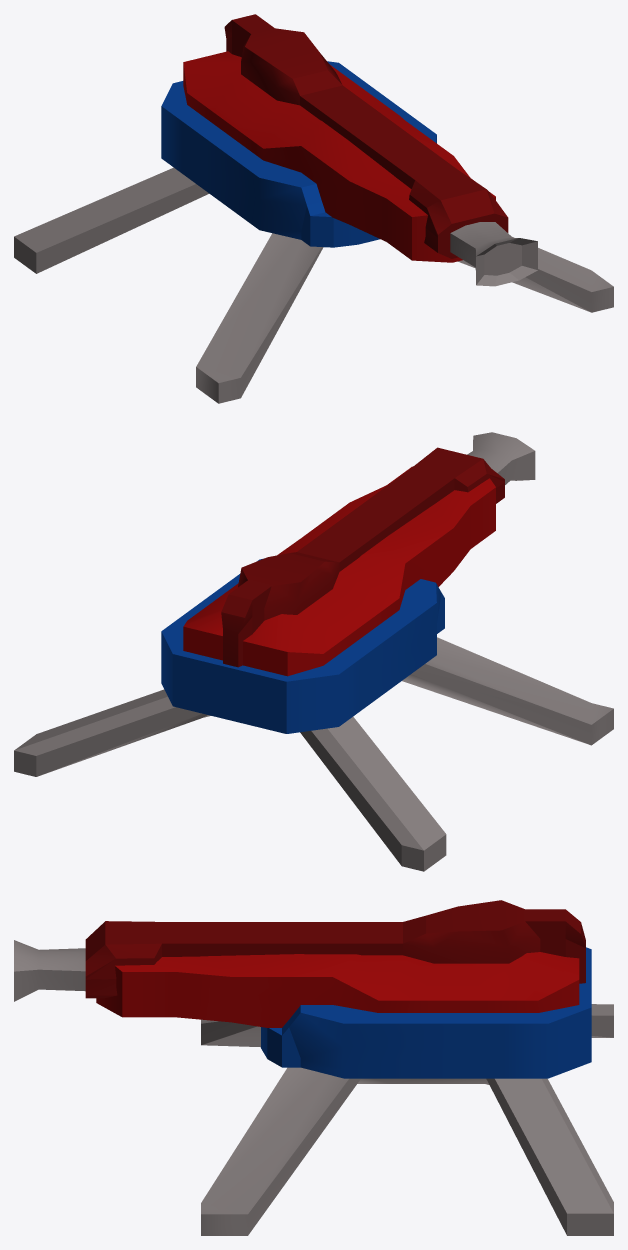
The model's file is Flamethrower.fbx.
3 views of the same model, one above another, from view 1: azimuth 30°, elevation 25°; view 2: azimuth 150°, elevation 25°; view 3: azimuth 270°, elevation 25° (orthographic). The views are drawn at different scales.
Visible parts, largest first — view 1: polySurface10, polySurface8, pCube8, polySurface7, pCube9; view 2: polySurface10, polySurface8, polySurface7, pCube8, pCube9; view 3: polySurface8, polySurface10, pCube8, polySurface7, pCube9.
Boxes of the visible parts, x1,y1,x2,y2 form: polySurface10: [14, 167, 613, 403]; polySurface8: [183, 51, 495, 262]; pCube8: [224, 14, 508, 258]; polySurface7: [161, 61, 436, 247]; pCube9: [450, 222, 537, 286]; polySurface10: [14, 637, 613, 871]; polySurface8: [183, 466, 495, 676]; polySurface7: [161, 558, 444, 733]; pCube8: [221, 447, 504, 667]; pCube9: [467, 432, 535, 484]; polySurface8: [96, 952, 579, 1027]; polySurface10: [201, 1004, 613, 1235]; pCube8: [85, 900, 585, 998]; polySurface7: [261, 947, 591, 1078]; pCube9: [14, 940, 85, 1001].
Bounding box in the file's own units: 6.35 × 3.12 × 7.69.
